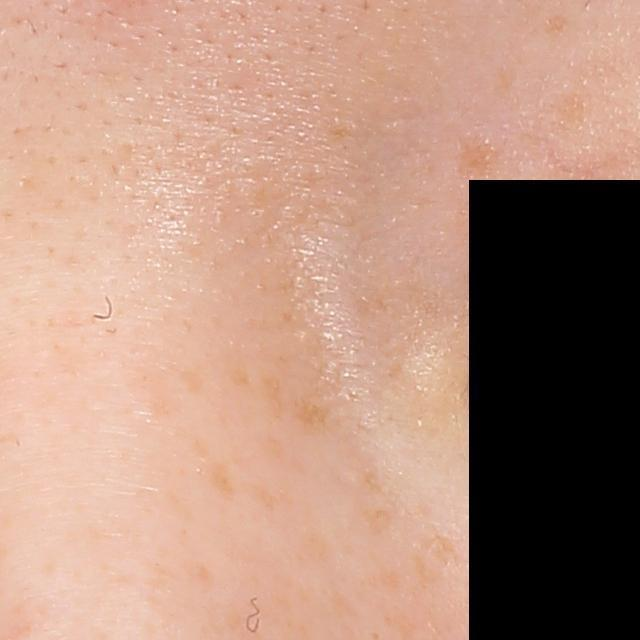melasma: (452, 132, 504, 184), (553, 89, 596, 132), (286, 393, 335, 429), (421, 529, 462, 564), (246, 480, 282, 518), (200, 462, 235, 501), (359, 506, 395, 537), (225, 365, 252, 397), (542, 14, 567, 35)
